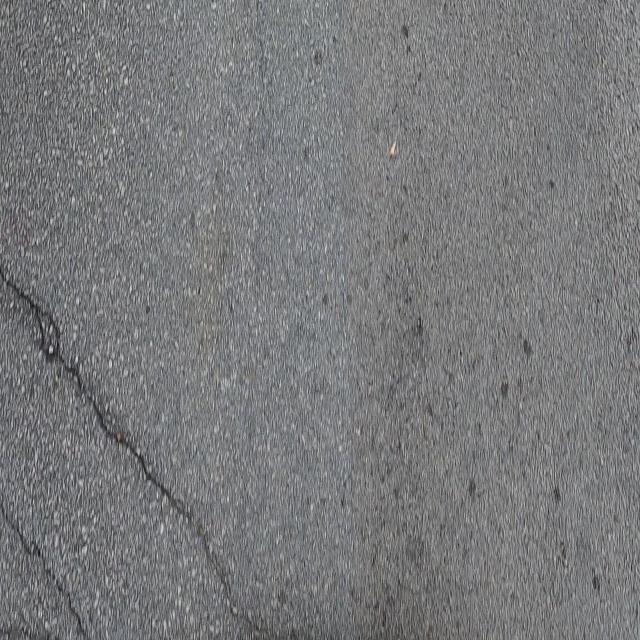Retak-Melintang: (0, 263, 196, 530), (0, 495, 92, 640)
